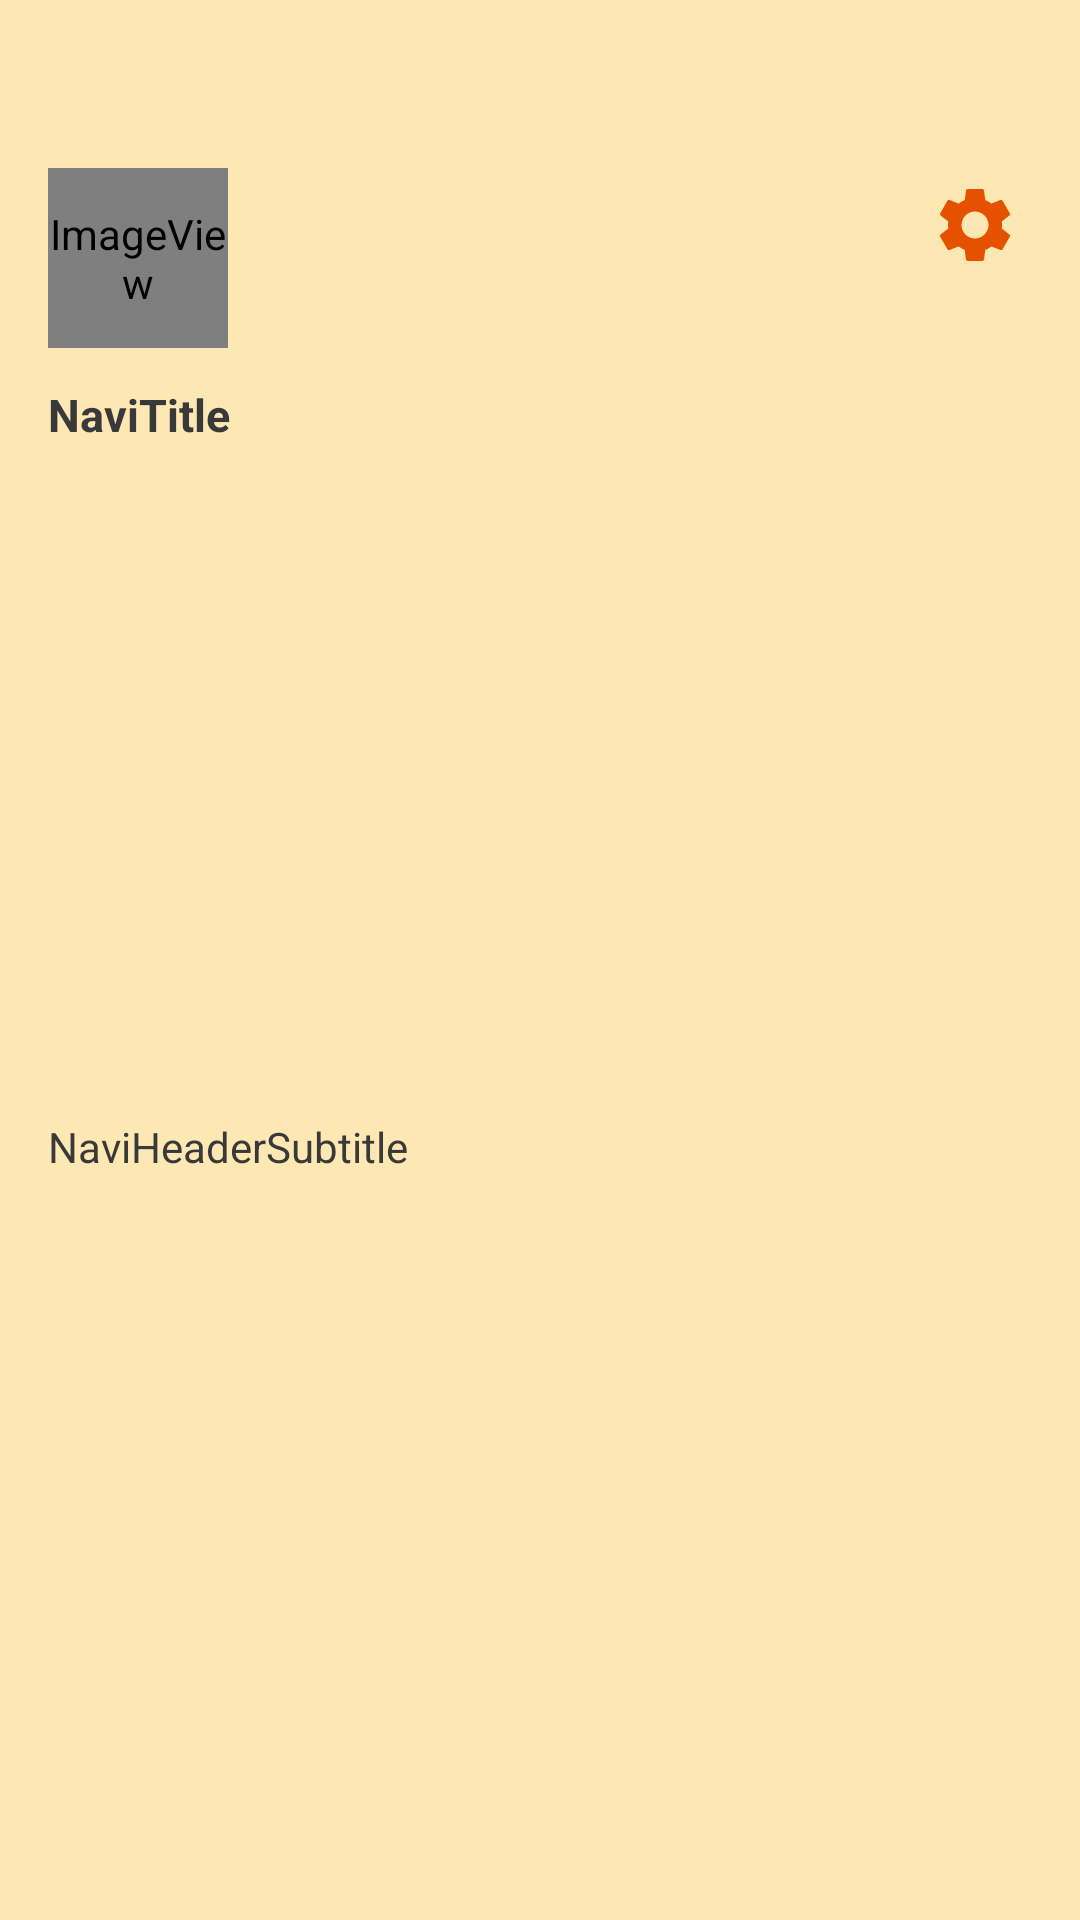

Icons on this 1080*1920 Android screen, each with its box as (x1, y1, x2, y2):
settings: (940, 189, 1010, 261)
